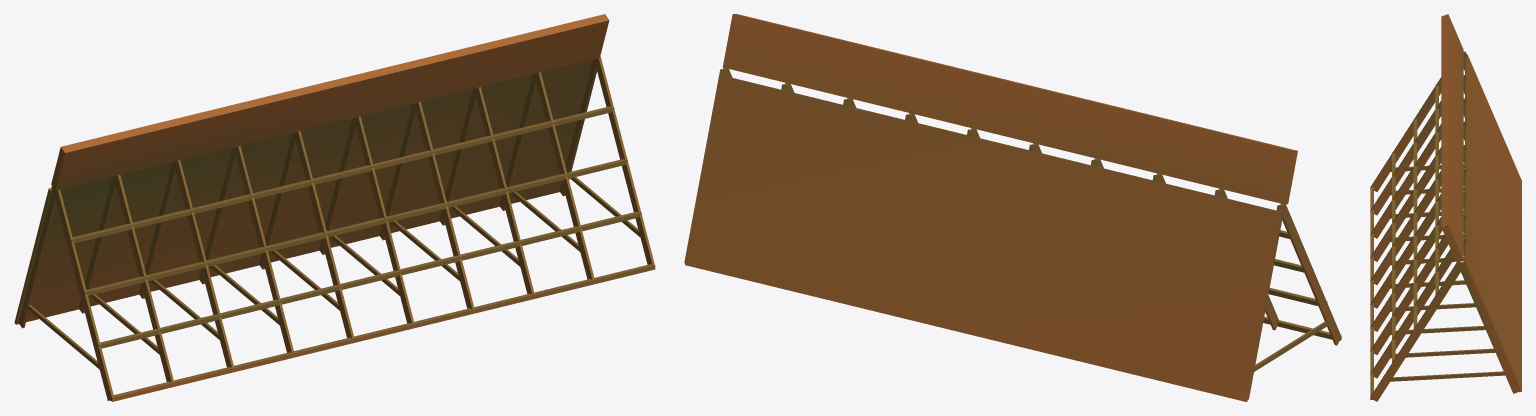
3 renders of one model, left to right at view 1: azimuth 30°, elevation 25°; view 2: azimuth 150°, elevation 25°; view 3: azimuth 270°, elevation 25°, orthographic. The views are drawn at different scales.
Parts seen in each view (by area): view 1: lower_panel, upper_panel, long_rail, long_rail.001, long_rail.002, long_rail.003, open_rafter.001, open_rafter.009, open_rafter.010, open_rafter.006, open_rafter.002, open_rafter.004 (+14 smaller); view 2: lower_panel, upper_panel, open_rafter.001; view 3: lower_panel, upper_panel, open_rafter.010, covered_rafter.010, open_rafter.009, open_rafter.008, open_rafter.003, open_rafter.002, open_rafter.005, open_rafter.007, open_rafter.006, open_rafter.001 (+10 smaller).
Part boxes in pixels (x1,y1,x2,y2): lower_panel: (14, 59, 592, 324); upper_panel: (51, 14, 609, 190); long_rail: (110, 264, 655, 401); long_rail.001: (98, 211, 641, 348); long_rail.002: (84, 159, 627, 295); long_rail.003: (71, 106, 614, 243); open_rafter.001: (52, 188, 114, 400); open_rafter.009: (534, 72, 594, 282); open_rafter.010: (594, 56, 655, 267); open_rafter.006: (354, 116, 414, 326); open_rafter.002: (113, 175, 174, 384); open_rafter.004: (233, 145, 294, 355); lower_panel: (685, 75, 1282, 401); upper_panel: (723, 14, 1297, 204); open_rafter.001: (1280, 203, 1341, 345); lower_panel: (1465, 54, 1521, 392); upper_panel: (1441, 14, 1463, 262); open_rafter.010: (1370, 261, 1464, 401); covered_rafter.010: (1461, 261, 1520, 393); open_rafter.009: (1370, 241, 1464, 378); open_rafter.008: (1370, 218, 1464, 354); open_rafter.003: (1370, 101, 1464, 238); open_rafter.002: (1370, 78, 1464, 215); open_rafter.005: (1370, 148, 1464, 285); open_rafter.007: (1370, 195, 1464, 331); open_rafter.006: (1370, 171, 1464, 308); open_rafter.001: (1370, 55, 1464, 191).
Bounding box in the file's own units: 6.03 × 2.35 × 1.83.
